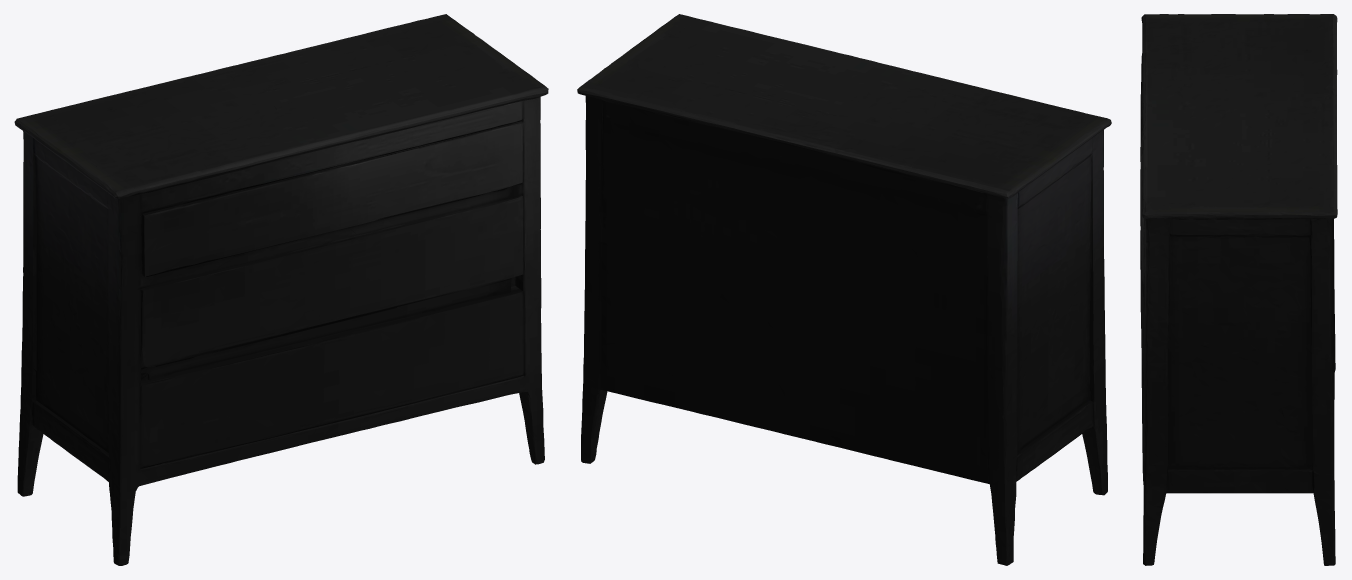
File: ast_b30865a2f123.glb
3 renders of one model, left to right at view 1: azimuth 30°, elevation 25°; view 2: azimuth 150°, elevation 25°; view 3: azimuth 270°, elevation 25°, orthographic. The views are drawn at different scales.
Parts seen in each view (by area): view 1: geometry_0; view 2: geometry_0; view 3: geometry_0.
Part boxes in pixels (left/top/right/bottom): geometry_0: left=14, top=14, right=548, bottom=565; geometry_0: left=577, top=14, right=1111, bottom=565; geometry_0: left=1140, top=14, right=1337, bottom=565.
Bounding box in the file's own units: 1 × 0.8288 × 0.4168.
Materials: 1 (1 with a texture image).
